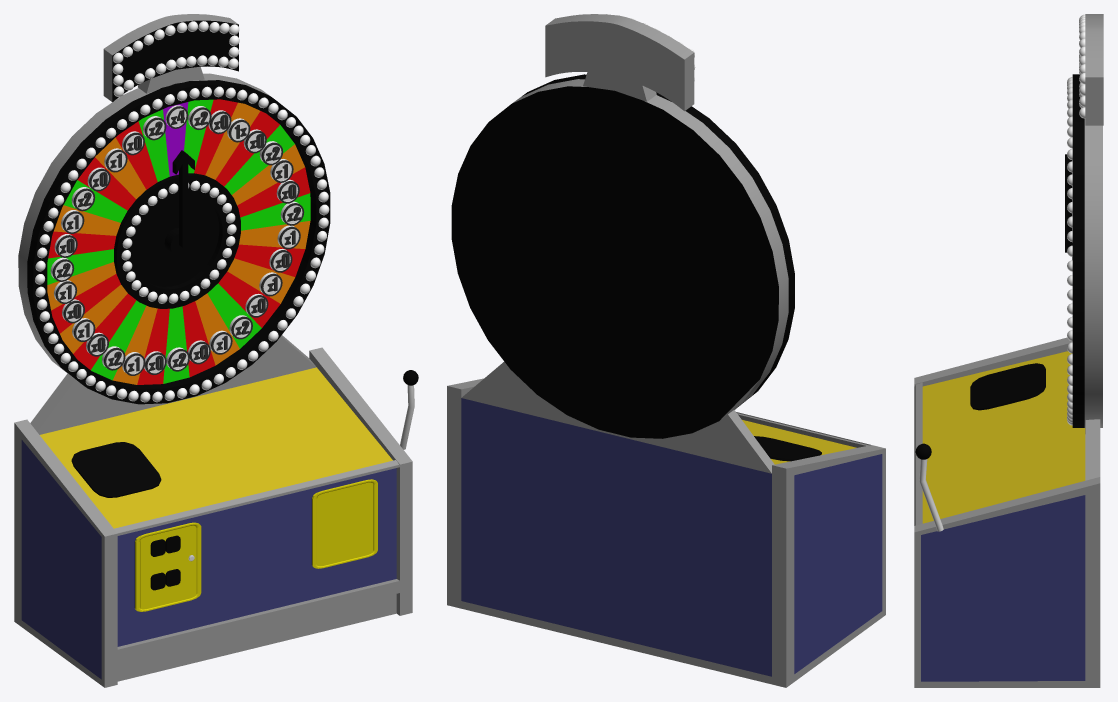
The model's file is spinNwin.fbx.
The picture shows the model from 3 angles, left to right: view 1: azimuth 30°, elevation 25°; view 2: azimuth 150°, elevation 25°; view 3: azimuth 270°, elevation 25°; orthographic projection. The views are drawn at different scales.
Visible parts, largest first — view 1: body.001, top.004, top.008, top.007, top.006, lights.003, top.003, top.005, Plane.005, lights.005, lights.004, Cube.001 (+14 smaller); view 2: body.001, top.004, top.003, top.005, Plane.005; view 3: body.001, top.005, top.004, Plane.005, top.003, lights.003, lights.005, Cylinder.002, Cube.001.
Boxes of the visible parts, left/top/right/bottom form: body.001: left=14, top=335, right=412, bottom=687; top.004: left=27, top=80, right=330, bottom=404; top.008: left=48, top=99, right=310, bottom=384; top.007: left=47, top=102, right=310, bottom=384; top.006: left=47, top=99, right=310, bottom=383; lights.003: left=35, top=86, right=329, bottom=402; top.003: left=103, top=14, right=238, bottom=101; top.005: left=18, top=73, right=269, bottom=378; Plane.005: left=71, top=442, right=161, bottom=497; lights.005: left=112, top=21, right=239, bottom=96; lights.004: left=121, top=180, right=236, bottom=303; Cube.001: left=172, top=150, right=194, bottom=247; body.001: left=447, top=361, right=885, bottom=687; top.004: left=451, top=74, right=794, bottom=438; top.003: left=545, top=14, right=694, bottom=111; top.005: left=512, top=79, right=788, bottom=419; Plane.005: left=754, top=436, right=821, bottom=461; body.001: left=914, top=337, right=1100, bottom=687; top.005: left=1084, top=119, right=1102, bottom=427; top.004: left=1072, top=74, right=1084, bottom=427; Plane.005: left=970, top=363, right=1045, bottom=410; top.003: left=1085, top=14, right=1103, bottom=125; lights.003: left=1067, top=77, right=1072, bottom=425; lights.005: left=1079, top=14, right=1085, bottom=118; Cylinder.002: left=919, top=459, right=943, bottom=531; Cube.001: left=1065, top=154, right=1072, bottom=252.
Bounding box in the file's own units: 447 × 762 × 224.
